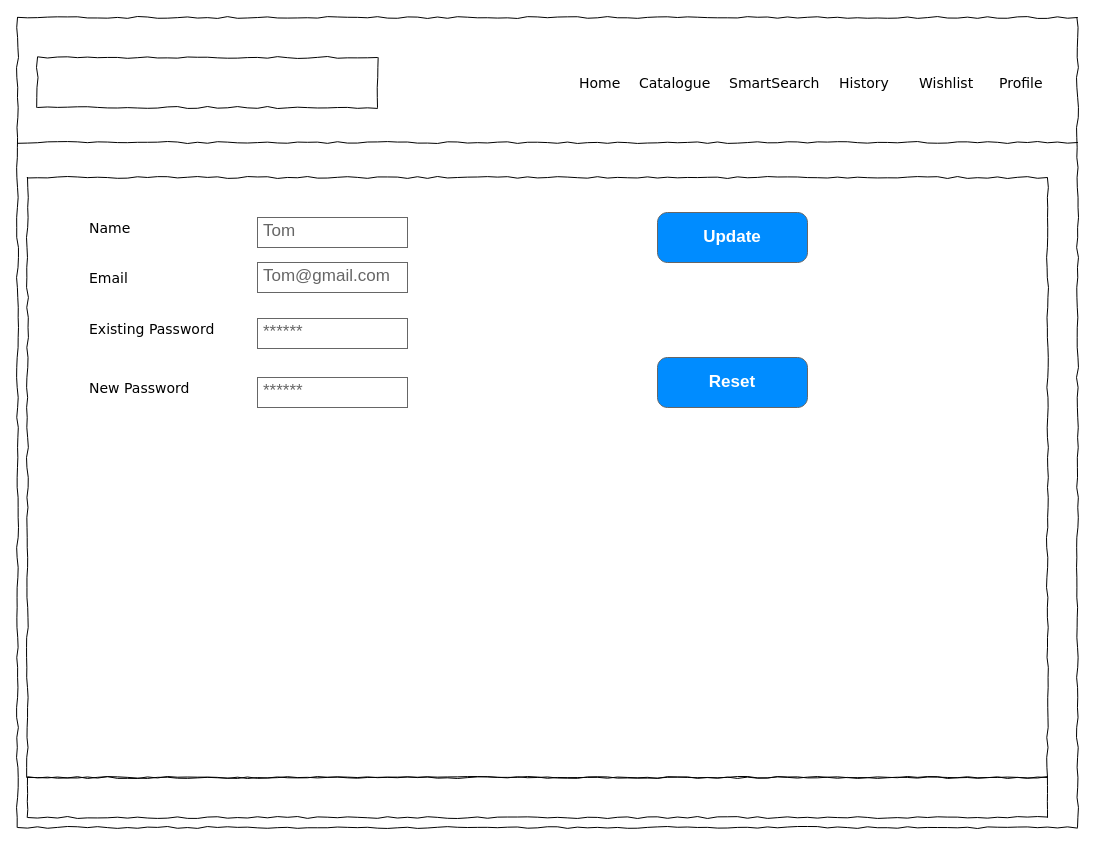
Image size: 1095x845. Some labels were removed from this diagram. Here are the shapes that lost their labels. From the top down, the centre of each, then its label:
At pixel 207 82: "Giggles Gears".
At pixel 537 797: "Footer".
